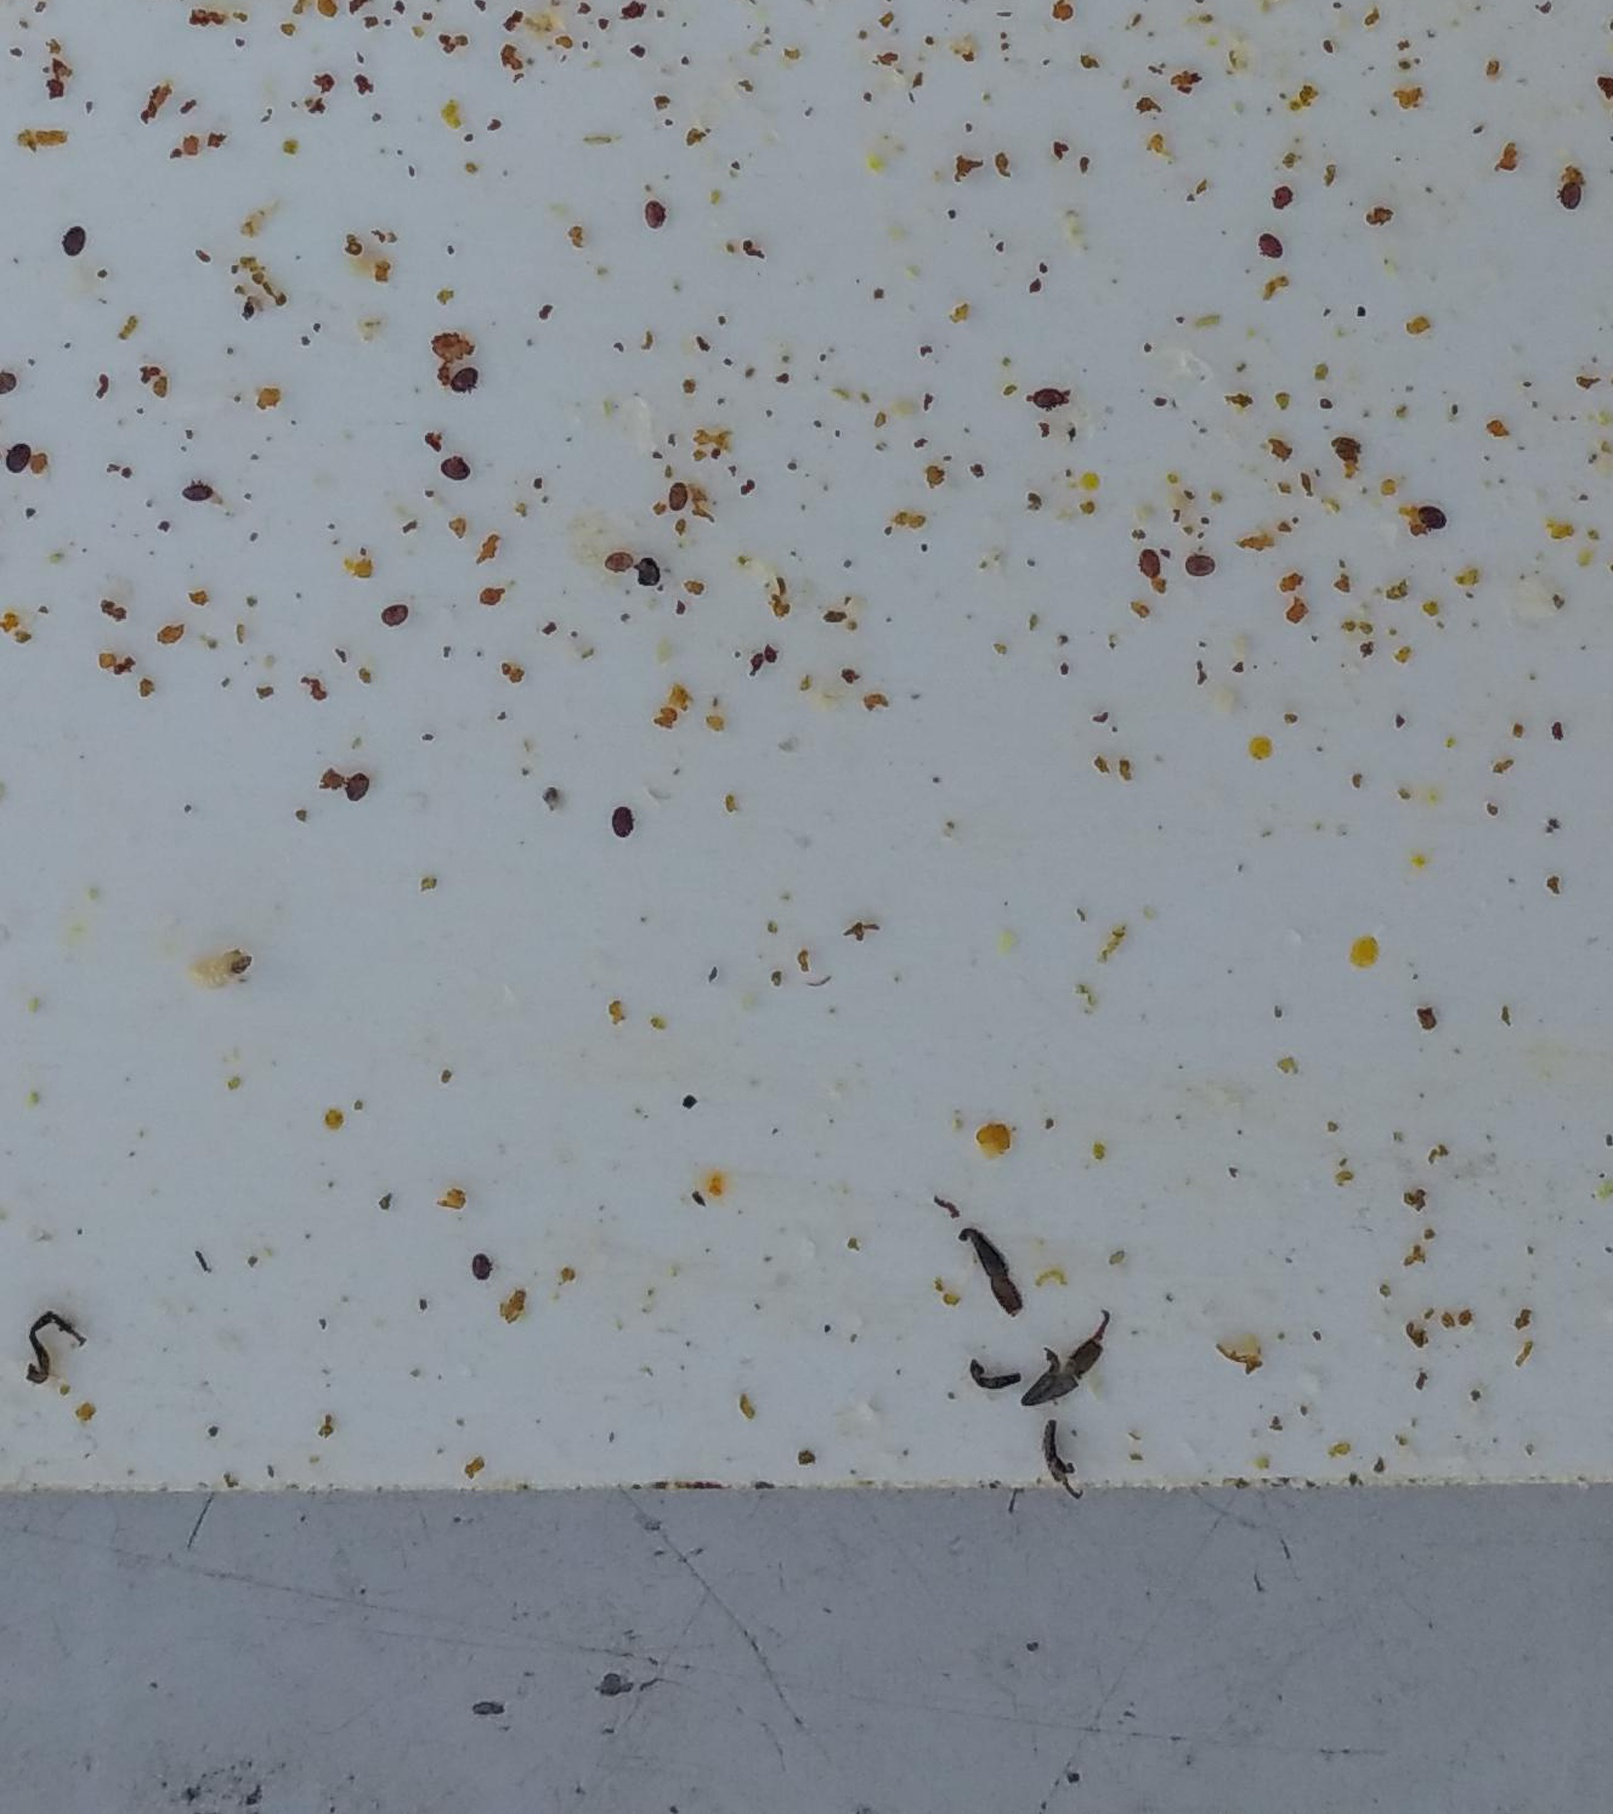Varroa: (339, 766, 385, 810), (375, 592, 413, 628), (431, 452, 467, 487), (601, 542, 635, 578), (56, 223, 90, 255), (1032, 381, 1065, 416), (1183, 548, 1216, 582), (1253, 234, 1286, 266), (641, 198, 674, 230), (1135, 547, 1168, 579), (1552, 178, 1583, 212), (609, 807, 640, 839), (5, 445, 36, 478), (659, 483, 690, 515), (466, 1249, 497, 1280), (1418, 508, 1450, 539), (184, 476, 213, 508), (448, 361, 478, 389)
